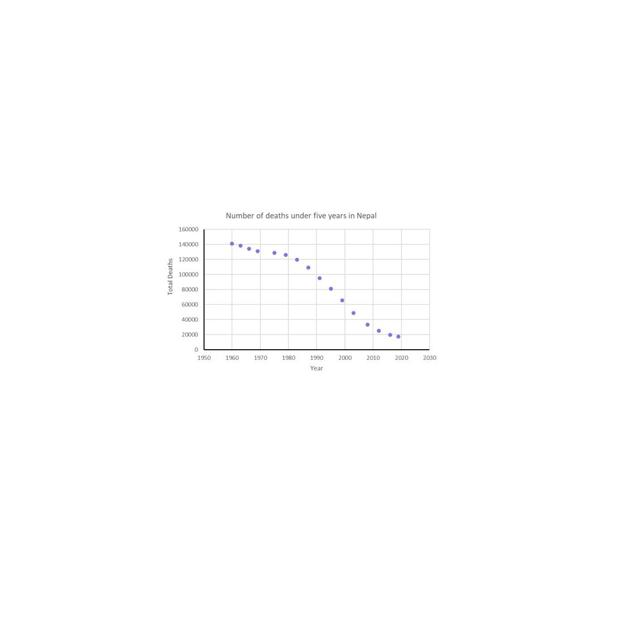Graph: (160, 206, 442, 380)
